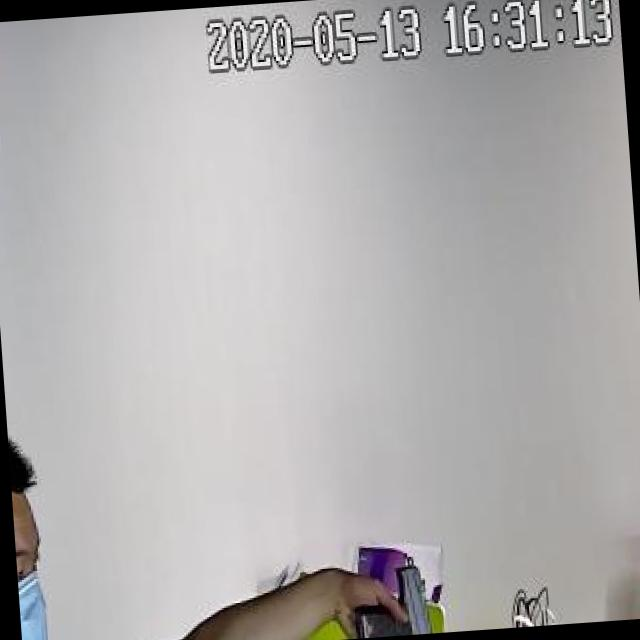Guns: (339, 553, 466, 639)
